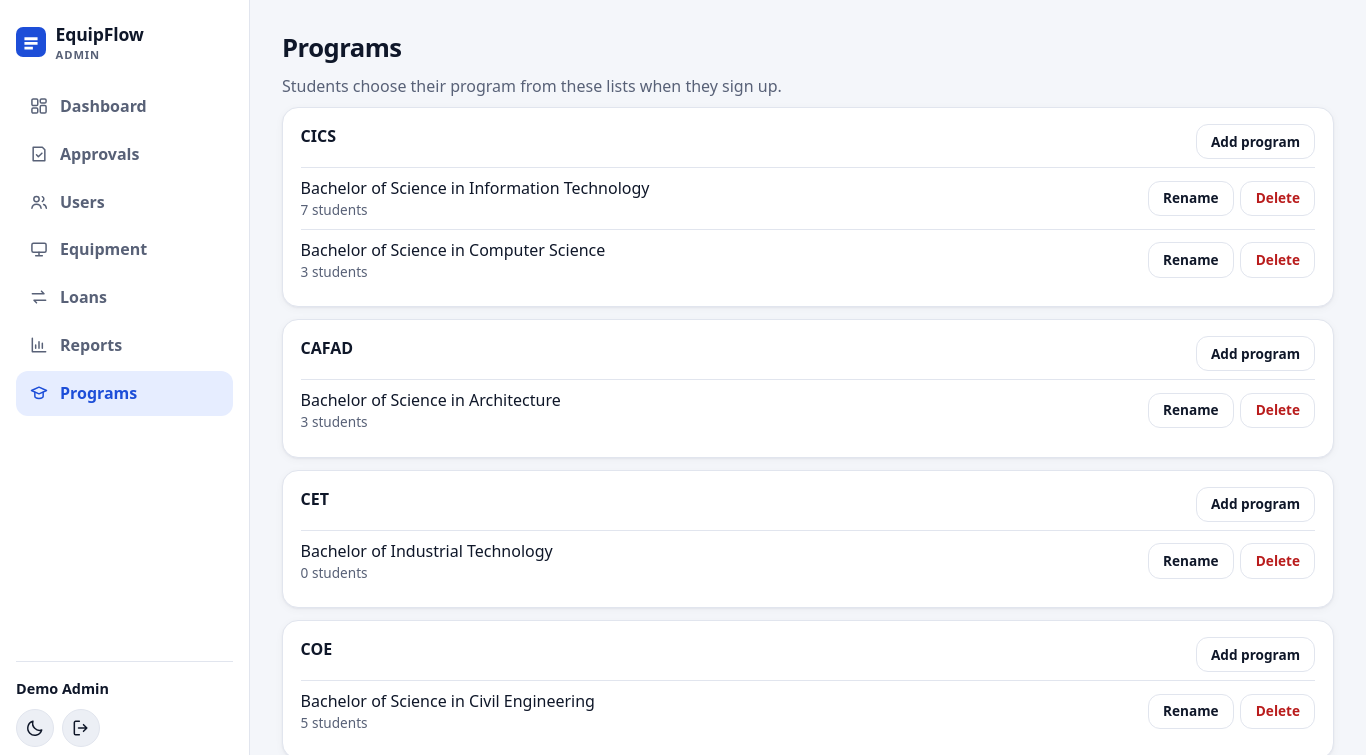
Test case: Programs › renames a program, starting from its current name
Click the button with aria-label "Rename Bachelor of Science in Architecture" at x=1191, y=410, box [1148, 393, 1234, 428]
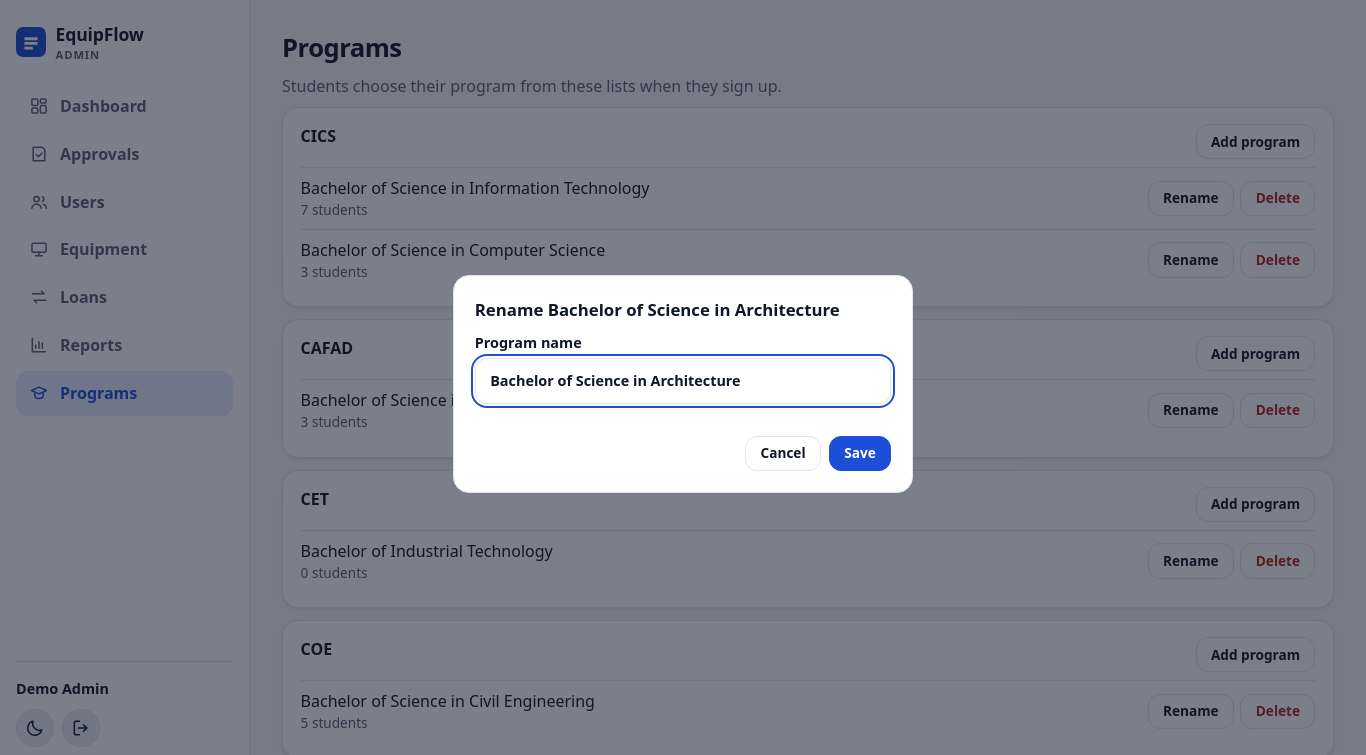
Result: the field labelled "Program name" holds "Bachelor of Science in Architecture"
Replace the text in the field labelled "Program name" with "BS Architecture" at x=683, y=381, box [475, 358, 891, 404]
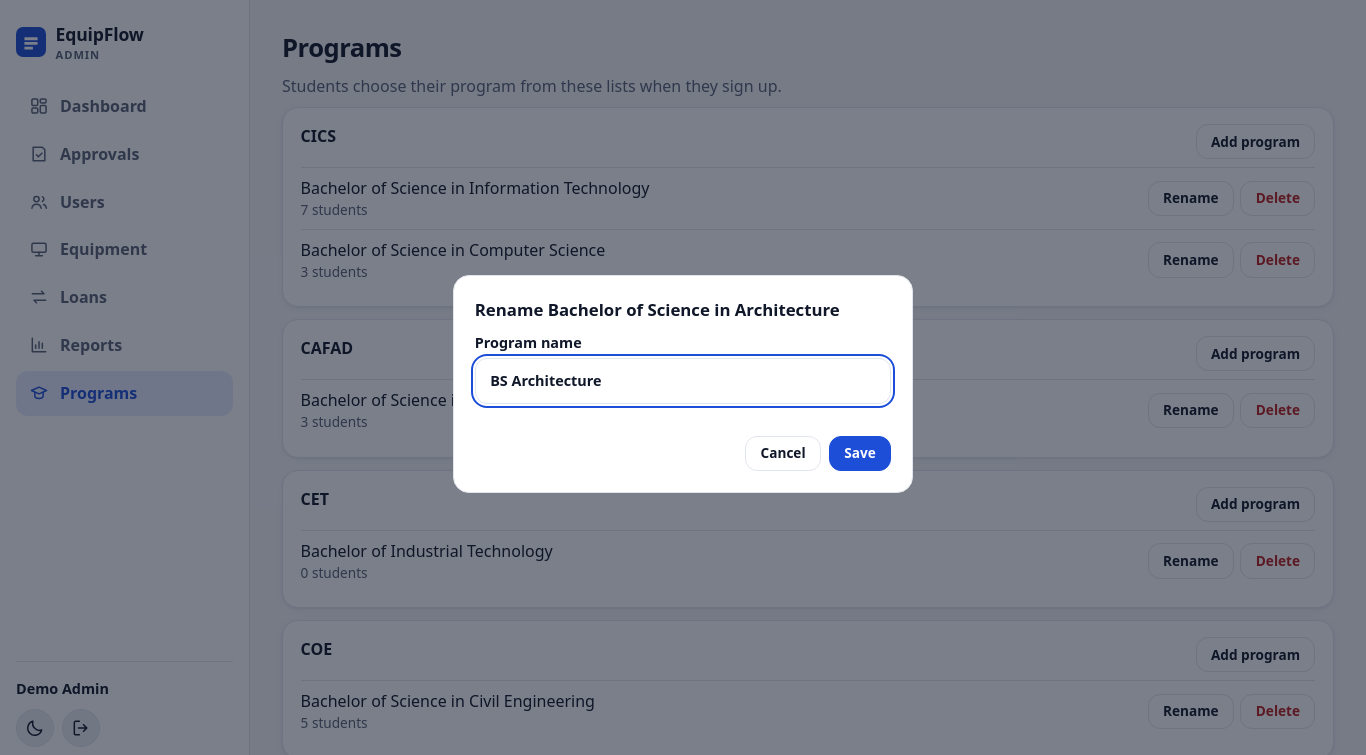
Click the button "Save" at x=860, y=454, box [829, 436, 891, 471]
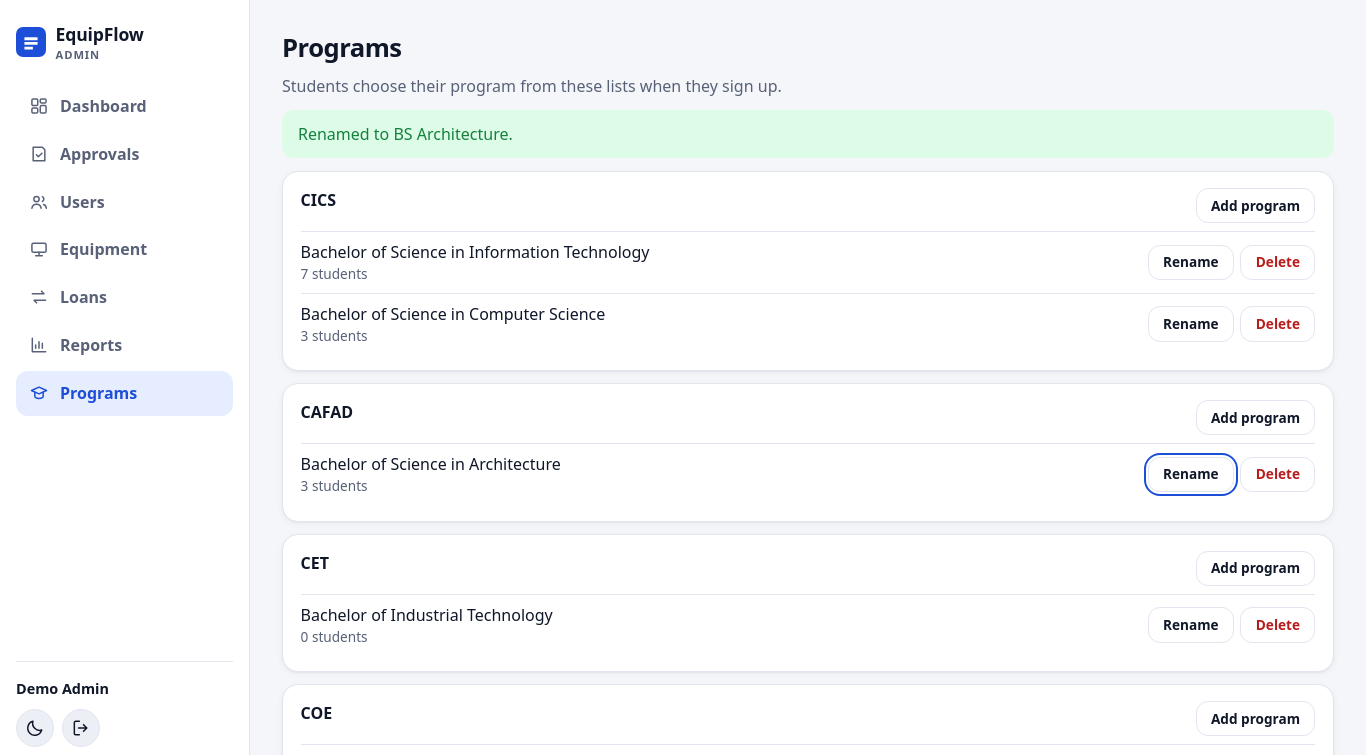
Result: the message reads "Renamed to BS Architecture." at [298, 123, 513, 145]
